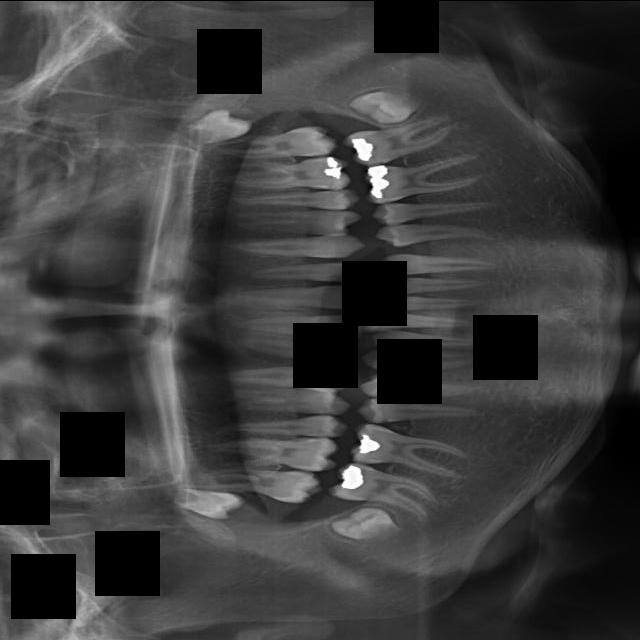3M ESPE Implant: (166, 484, 247, 523)
AGS Medikal Implant: (338, 110, 466, 170)
AMerOss Implant: (360, 150, 486, 205)
Amalgam filling: (185, 454, 326, 507)
Anthogyr Implant: (370, 188, 499, 226)
Bicon Implant: (374, 218, 498, 248)
BioHorizons Implant: (375, 247, 510, 276)
BioLife Implant: (376, 273, 493, 294)
Biomet 3i Implant: (374, 292, 489, 311)
Blue Sky Bio Implant: (373, 311, 484, 328)
Camlog Implant: (371, 328, 483, 350)
Caries: (247, 258, 362, 282)
Composite filling: (360, 348, 494, 373)
Cowellmedi Implant: (357, 371, 489, 407)
Crown: (355, 395, 486, 434)
DENTSPLY Implant: (204, 437, 340, 471)
Dentatus Implant: (345, 420, 475, 481)
Dentis Implant: (326, 456, 447, 524)
Dentium Implant: (330, 495, 401, 558)
Euroteknika Implant: (217, 412, 349, 437)
Filling: (221, 384, 354, 415)
Frontier Implant: (208, 359, 354, 389)
Hiossen Implant: (230, 234, 366, 262)
Implant: (226, 314, 366, 340)
Implant Direct: (232, 336, 355, 364)
Keystone Dental Implant: (231, 284, 368, 309)
MIS Implant: (233, 209, 361, 235)
Mandible: (230, 187, 360, 215)
Maxilla: (225, 154, 349, 193)
Megagen Implant: (209, 122, 339, 168)
Neodent Implant: (177, 99, 255, 150)
Neoss Implant: (346, 88, 423, 123)
